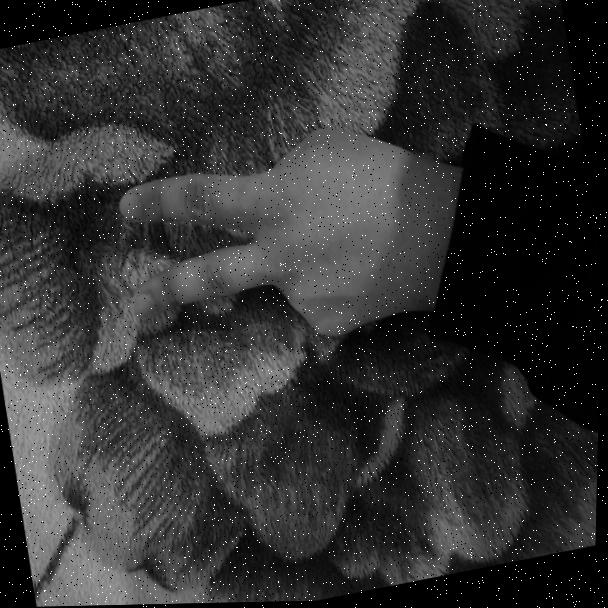two: (91, 77, 490, 392)
